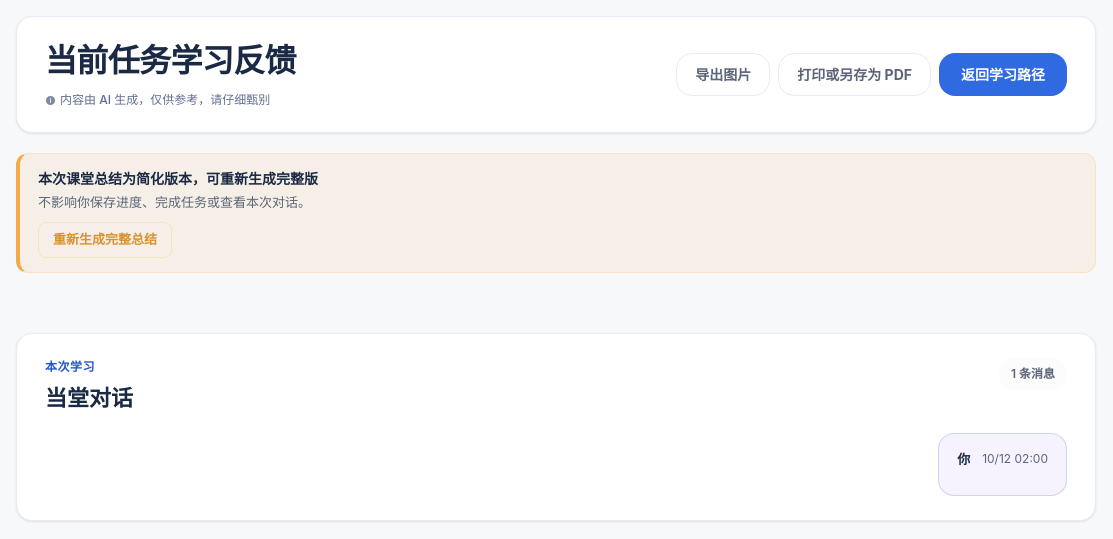
Test: LearningEvaluationPage 降级总结重试 › 守卫拒绝（冷却/未完结）时 409 原因透传到横幅，不进轮询
Step 1. Click the button with class "evaluation-degraded__retry" → (105, 240), box [38, 222, 172, 258]
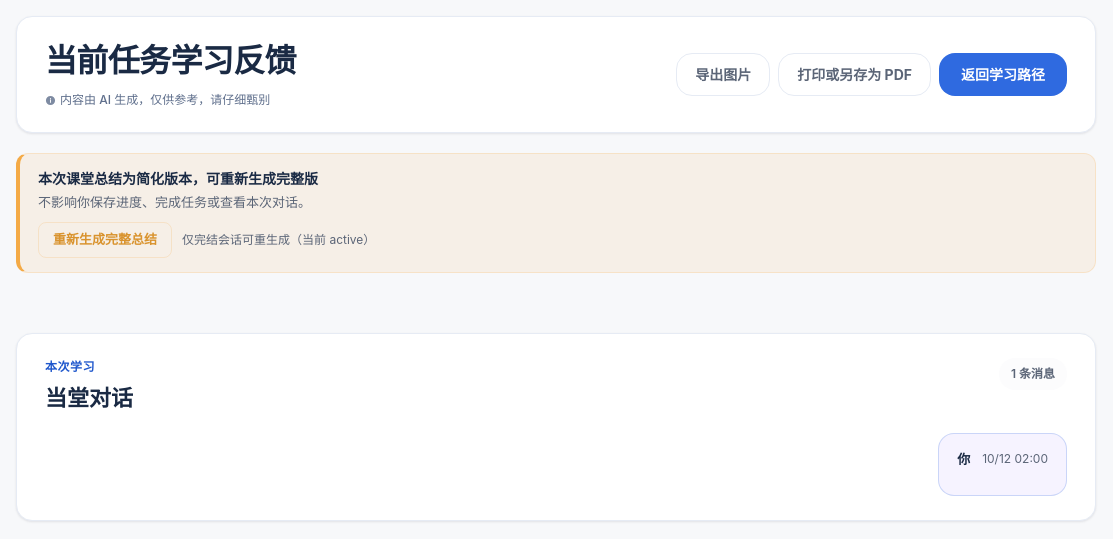
Expected: the message with class "evaluation-degraded__notice" shows "仅完结会话可重生成", [182, 232, 375, 247]
